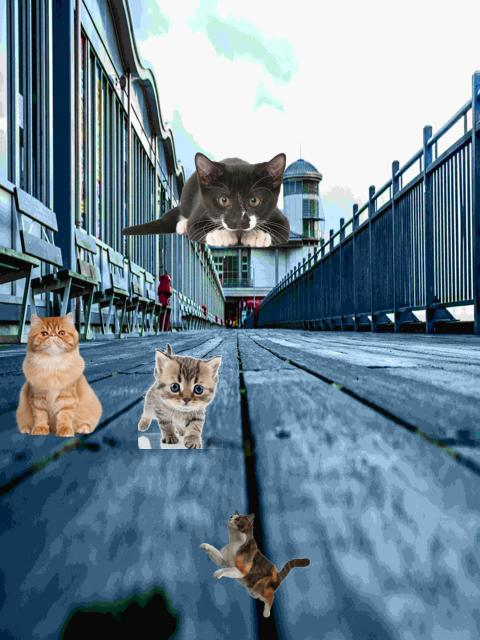cat: (124, 147, 316, 253), (201, 508, 309, 618), (13, 312, 105, 436), (140, 345, 221, 447)
